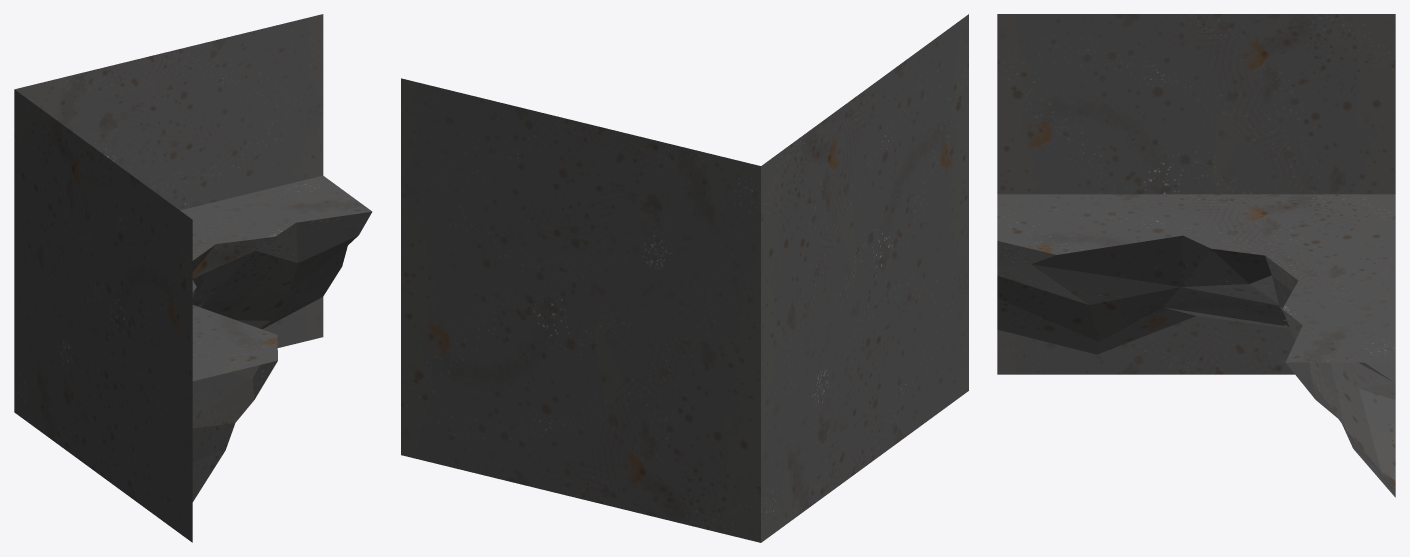
File: Wall-Outcrop-Corner.fbx
3 views of the same model, side by side, from view 1: azimuth 30°, elevation 25°; view 2: azimuth 150°, elevation 25°; view 3: azimuth 270°, elevation 25° (orthographic). The views are drawn at different scales.
Parts seen in each view (by area): view 1: Wall-Outcrop-Corner; view 2: Wall-Outcrop-Corner; view 3: Wall-Outcrop-Corner.
Boxes of the visible parts, x1,y1,x2,y2 form: Wall-Outcrop-Corner: [14, 14, 372, 542]; Wall-Outcrop-Corner: [401, 14, 968, 542]; Wall-Outcrop-Corner: [997, 14, 1395, 497].
Bounding box in the file's own units: 200 × 200 × 200.
